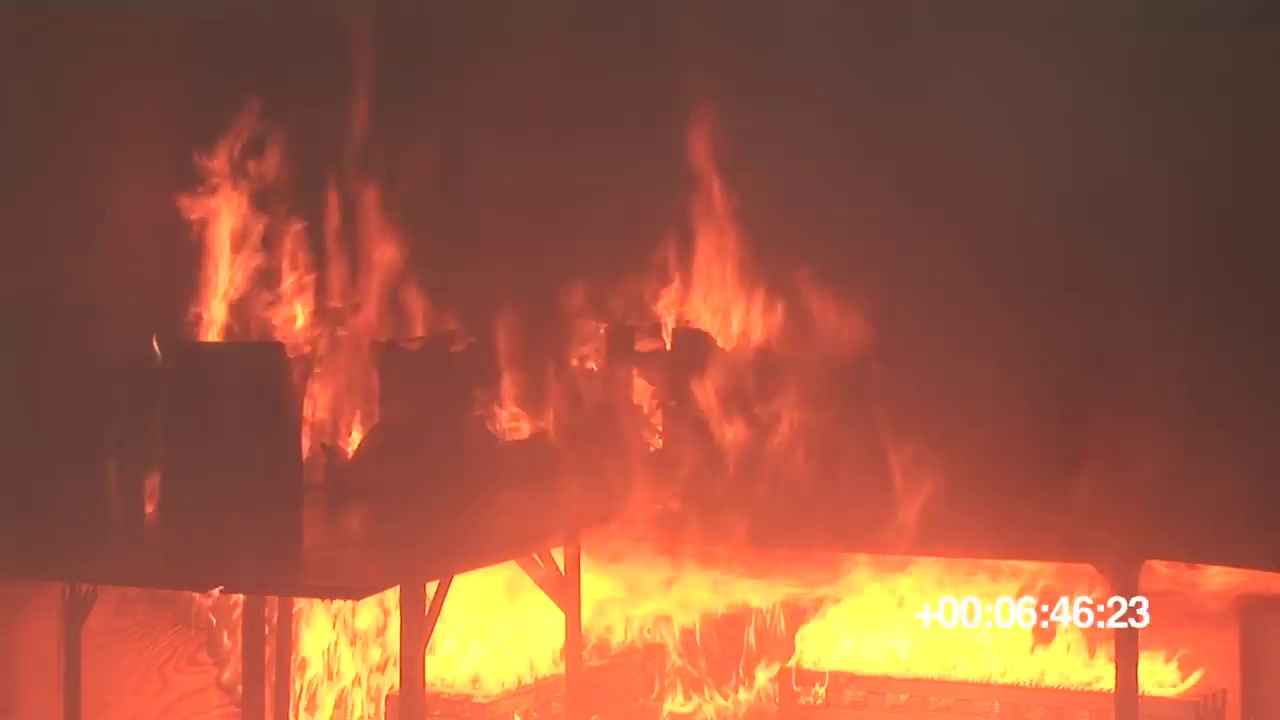fire: (294, 574, 1205, 694), (184, 109, 444, 454), (648, 141, 773, 354), (574, 316, 600, 368), (496, 383, 522, 434), (629, 373, 654, 416)
